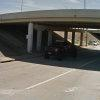Bridge: (2, 3, 98, 42)
